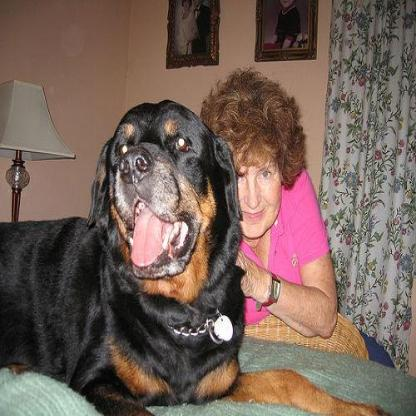Rottweiler: (0, 101, 388, 413)
